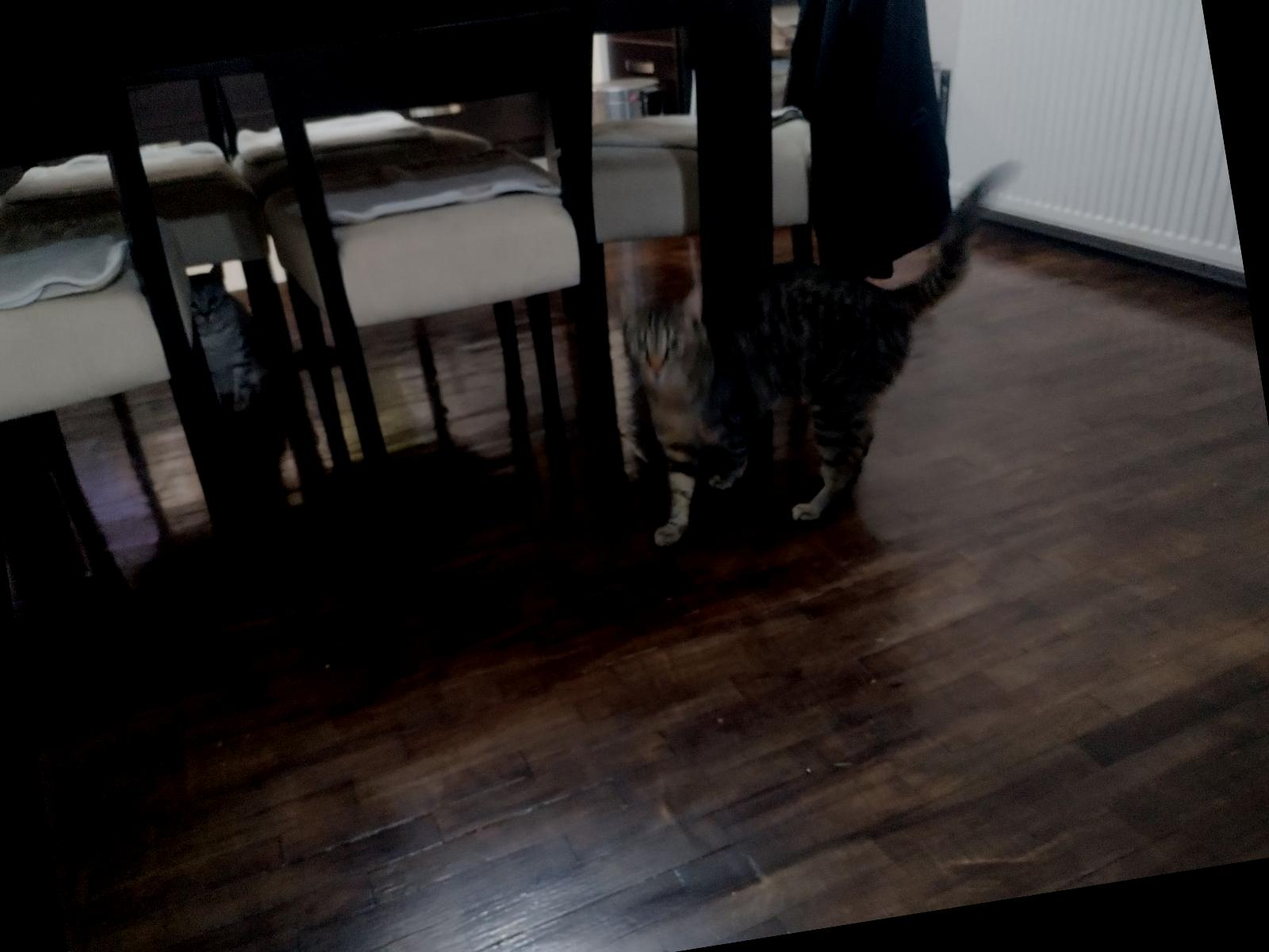macka: (600, 157, 1070, 550), (171, 254, 284, 421)
